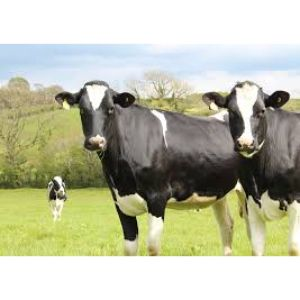cow: (51, 81, 208, 249), (210, 82, 300, 242), (44, 175, 72, 222)
